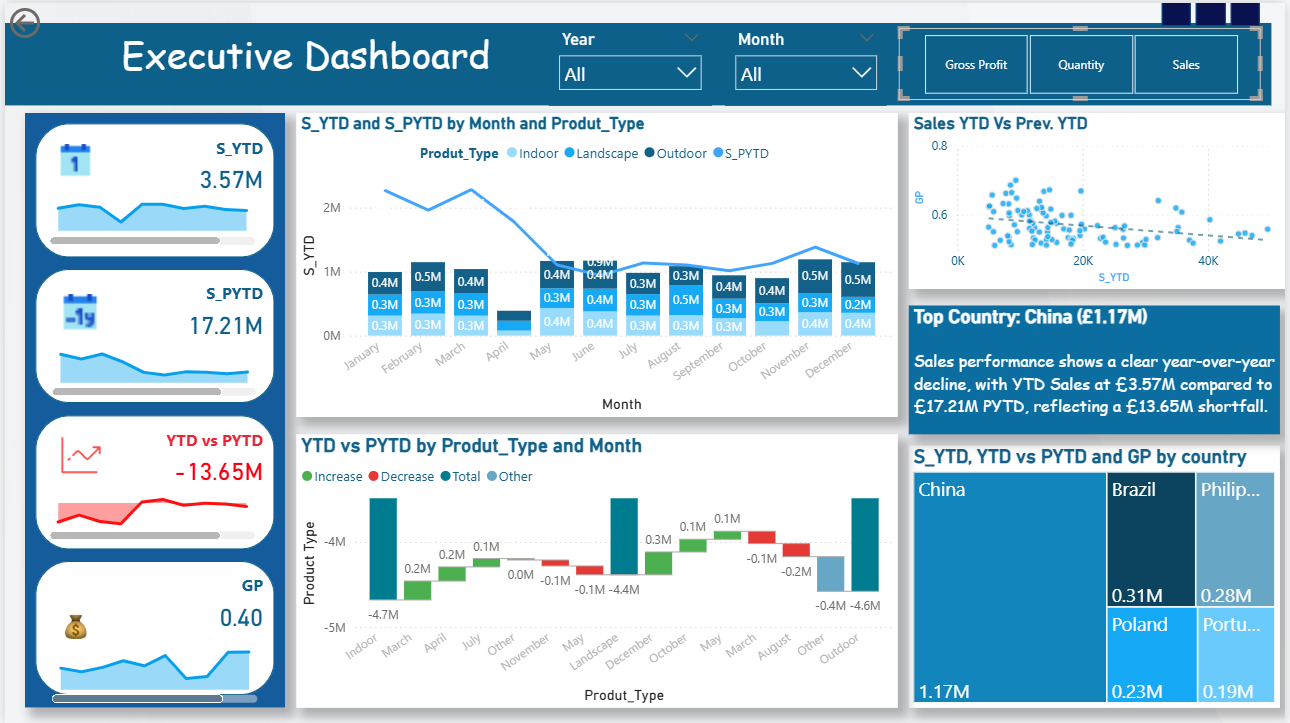

What the dashboard file says about the page in this screenshot:
{"tool":"powerbi","page":{"name":"Home","canvas":[1280,720],"ordinal":0},"visuals":[{"type":"cardVisual","fields":{"Data":["_Measures.S_YTD","_Measures.S_PYTD","_Measures.YTD vs PYTD","_Measures.GP"]},"box":[19.5,110.3,259.7,594.8],"z":0},{"type":"treemap","fields":{"Group":["Dim_Accounts.country"],"Values":["_Measures.S_YTD"]},"box":[903.3,442.6,371.4,262.5],"z":1000},{"type":"textbox","box":[0,19.5,1266.3,82.4],"z":2000},{"type":"areaChart","fields":{"Category":["Dim_Date.Date.Variation.Date Hierarchy.Month"],"Y":["_Measures.S_YTD"]},"box":[40.5,180.1,215,67],"z":3000},{"type":"areaChart","fields":{"Category":["Dim_Date.Date.Variation.Date Hierarchy.Month"],"Y":["_Measures.S_PYTD"]},"box":[41.9,333.7,213.6,64.2],"z":4000},{"type":"areaChart","fields":{"Category":["Dim_Date.Date.Variation.Date Hierarchy.Month"],"Y":["_Measures.YTD vs PYTD"]},"box":[40.5,478.9,215,62.8],"z":5000},{"type":"areaChart","fields":{"Category":["Dim_Date.Date.Variation.Date Hierarchy.Month"],"Y":["_Measures.GP"]},"box":[41.9,633.9,215,71.2],"z":6000},{"type":"slicer","fields":{"Values":["Dim_Date.Date.Variation.Date Hierarchy.Year"]},"box":[543.5,20.9,162.9,81.5],"z":7000},{"type":"slicer","fields":{"Values":["Dim_Date.Date.Variation.Date Hierarchy.Month"]},"box":[720.4,20.9,161.8,81.5],"z":8000},{"type":"slicer","fields":{"Values":["Slc_Values.Values"]},"box":[893.5,25.1,363,72.6],"z":9000},{"type":"lineStackedColumnComboChart","fields":{"Category":["Dim_Date.Date.Variation.Date Hierarchy.Month"],"Y":["_Measures.S_YTD"],"Y2":["_Measures.S_PYTD"],"Series":["Dim_Product.Produt_Type"]},"box":[291.8,110.3,601.7,304.4],"z":10000},{"type":"waterfallChart","fields":{"Y":["_Measures.YTD vs PYTD"],"Breakdown":["Dim_Date.Date.Variation.Date Hierarchy.Month"],"Category":["Dim_Product.Produt_Type"]},"box":[291.8,431.4,601.7,273.6],"z":11000},{"type":"actionButton","box":[0,0,100,40],"z":12000},{"type":"scatterChart","title":"Sales YTD Vs Prev. YTD","fields":{"Y":["_Measures.GP"],"X":["_Measures.S_YTD"],"Category":["Dim_Accounts.Account"]},"box":[903.3,110.3,377,175.9],"z":13000},{"type":"image","box":[40.5,136.8,60,43.3],"z":14000},{"type":"image","box":[50.3,286.2,50.3,47.5],"z":15000},{"type":"textbox","title":"Top Country: China (£1.17M)","box":[903.3,303,371.4,128.4],"z":16000},{"type":"image","box":[51.7,597.6,39.1,51.7],"z":17000},{"type":"image","box":[51.4,422.9,50,55.7],"z":18000}]}

Visuals, with their boxes in screenshot pixels (x1, y1, x2, y2), scaled from the page's 1280x720 canvas onto the 1290x723 screenshot:
cardVisual - _Measures.S_YTD x _Measures.S_PYTD: [left=20, top=111, right=281, bottom=708]
treemap - Dim_Accounts.country x _Measures.S_YTD: [left=910, top=444, right=1285, bottom=708]
textbox: [left=0, top=20, right=1276, bottom=102]
areaChart - Dim_Date.Date.Variation.Date Hierarchy.Month x _Measures.S_YTD: [left=41, top=181, right=257, bottom=248]
areaChart - Dim_Date.Date.Variation.Date Hierarchy.Month x _Measures.S_PYTD: [left=42, top=335, right=257, bottom=400]
areaChart - Dim_Date.Date.Variation.Date Hierarchy.Month x _Measures.YTD vs PYTD: [left=41, top=481, right=257, bottom=544]
areaChart - Dim_Date.Date.Variation.Date Hierarchy.Month x _Measures.GP: [left=42, top=637, right=259, bottom=708]
slicer - Dim_Date.Date.Variation.Date Hierarchy.Year: [left=548, top=21, right=712, bottom=103]
slicer - Dim_Date.Date.Variation.Date Hierarchy.Month: [left=726, top=21, right=889, bottom=103]
slicer - Slc_Values.Values: [left=900, top=25, right=1266, bottom=98]
lineStackedColumnComboChart - Dim_Date.Date.Variation.Date Hierarchy.Month x _Measures.S_YTD: [left=294, top=111, right=900, bottom=416]
waterfallChart - _Measures.YTD vs PYTD x Dim_Date.Date.Variation.Date Hierarchy.Month: [left=294, top=433, right=900, bottom=708]
actionButton: [left=0, top=0, right=101, bottom=40]
"Sales YTD Vs Prev. YTD" scatterChart: [left=910, top=111, right=1289, bottom=287]
image: [left=41, top=137, right=101, bottom=181]
image: [left=51, top=287, right=101, bottom=335]
"Top Country: China (£1.17M)" textbox: [left=910, top=304, right=1285, bottom=433]
image: [left=52, top=600, right=92, bottom=652]
image: [left=52, top=425, right=102, bottom=481]
